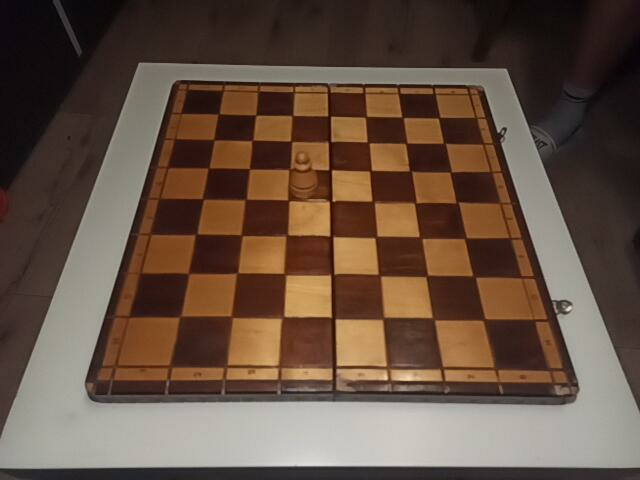W-Pawn: (289, 152, 318, 198)
